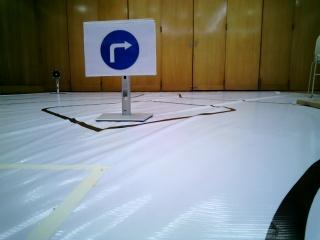right: (87, 25, 151, 72)
